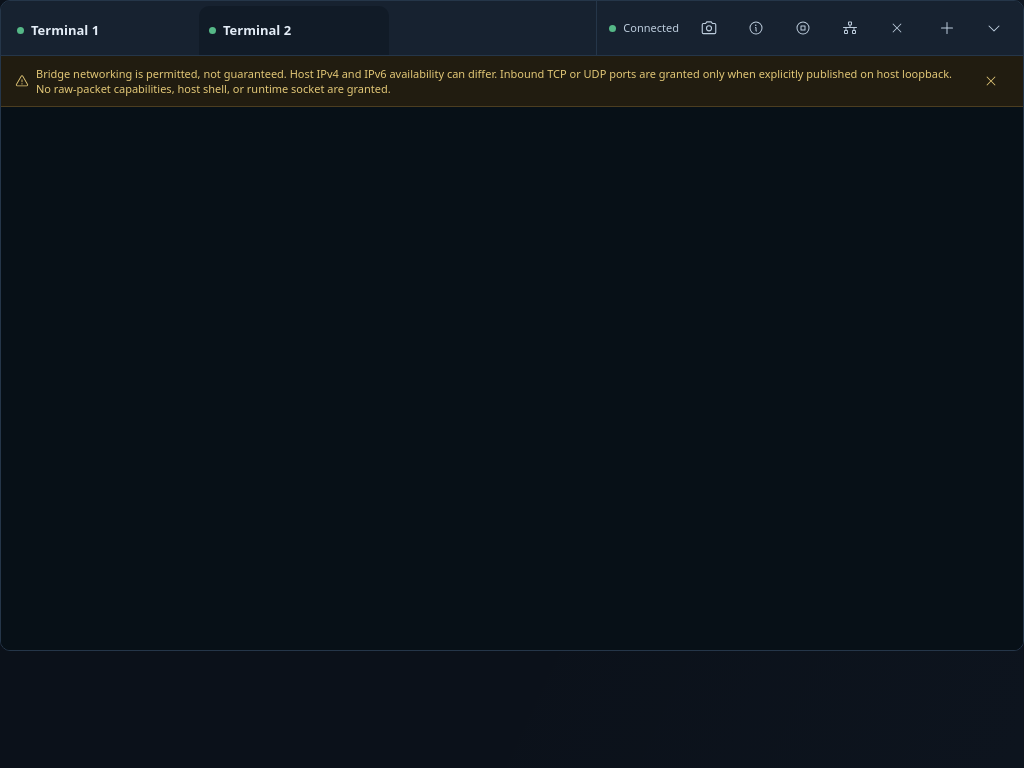
Test: ContainerTerminalPanel › confirms a running tab close and stops only that session
Click the tab "Terminal 1".
click(102, 30)  # box [7,6,197,55]
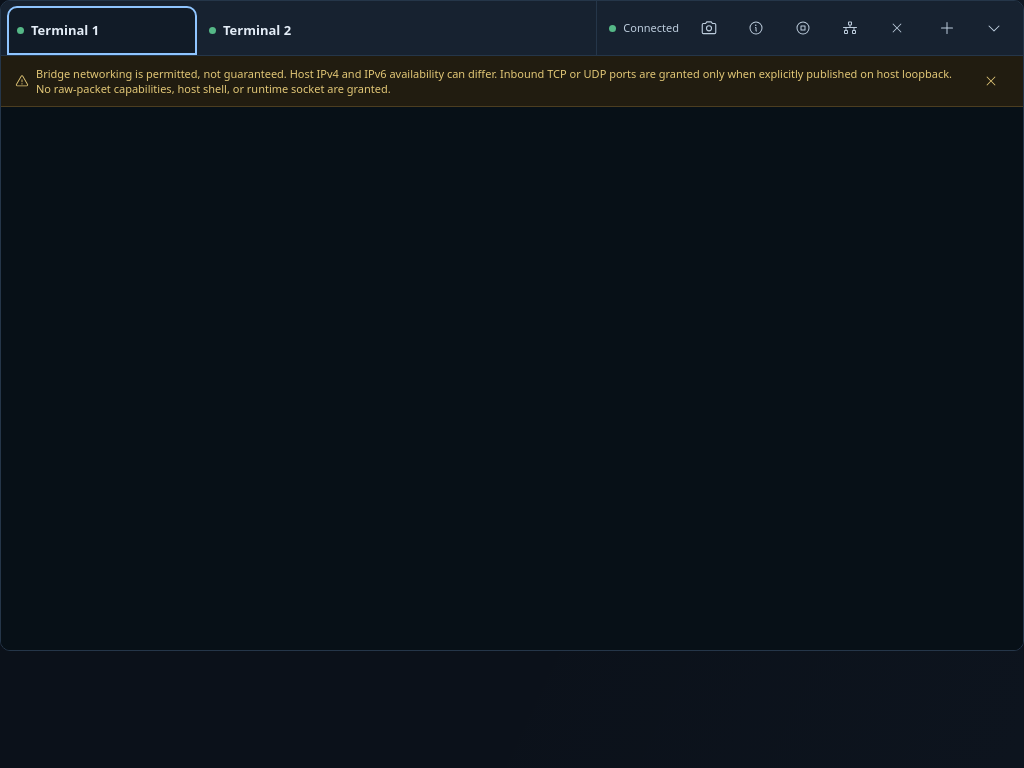
Click the button named "Close Terminal 1".
click(897, 28)  # box [875,6,919,50]
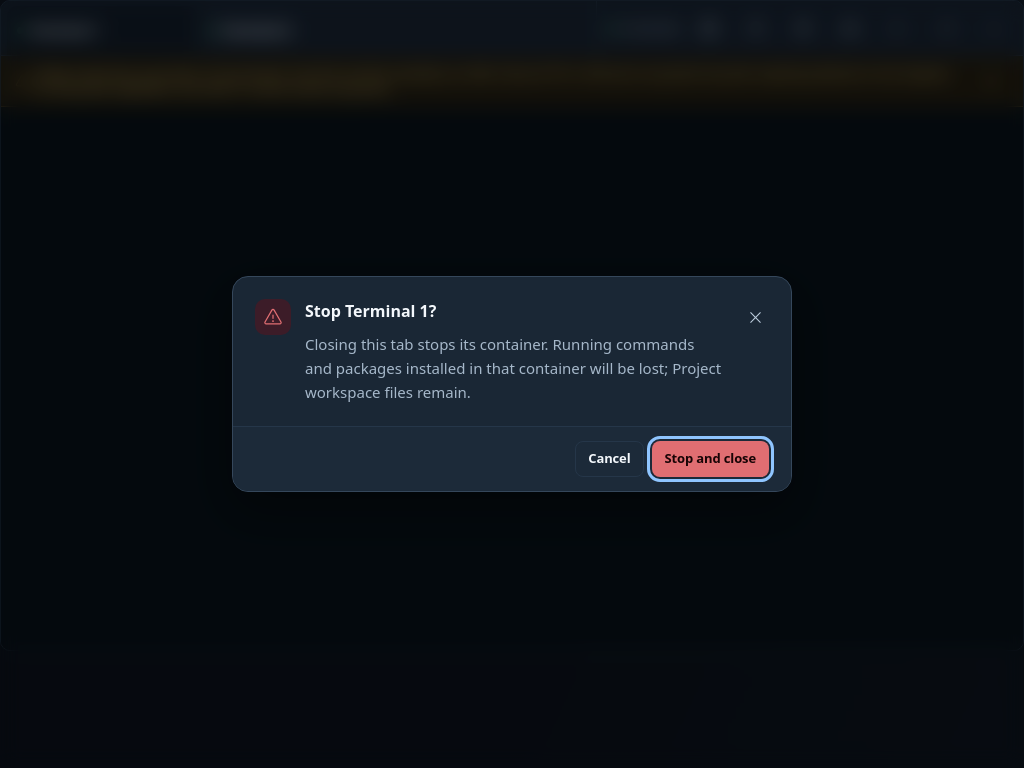
Check: the dialog "Stop Terminal 1?" is shown, box [232,276,792,492]
Click the button "Stop and close".
click(710, 459)  # box [652,441,769,477]
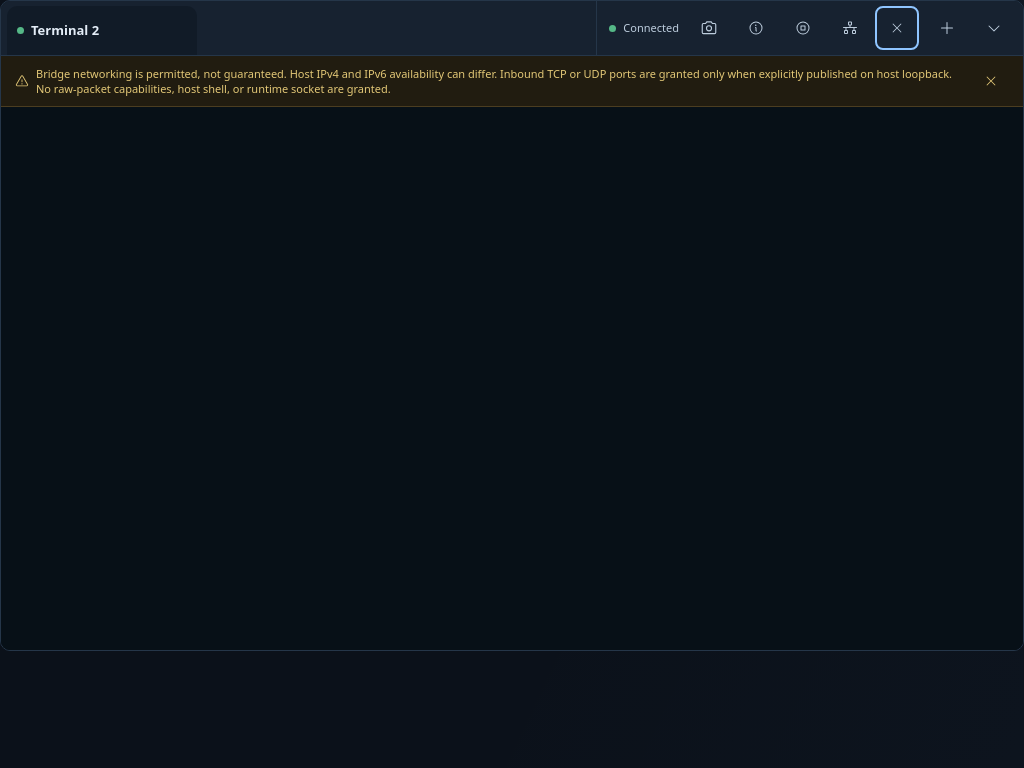
Check: the tab "Terminal 2" is shown, box [7,6,197,55]
Check: the tab "Terminal 1" is gone
